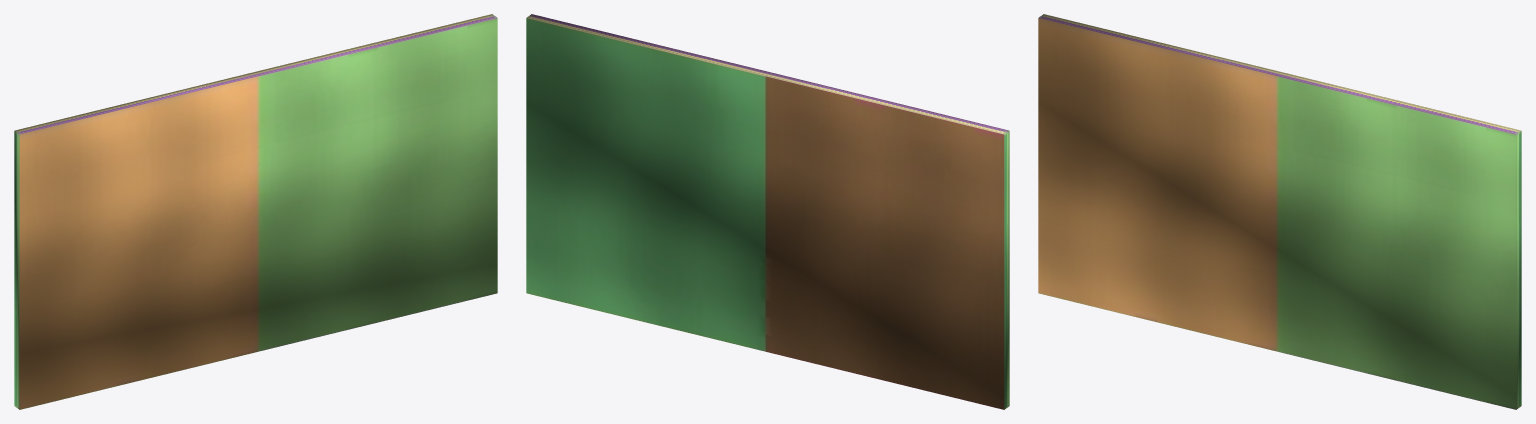
File: fence_wood.glb
The picture shows the model from 3 angles, left to right: view 1: azimuth 30°, elevation 25°; view 2: azimuth 150°, elevation 25°; view 3: azimuth 330°, elevation 25°; orthographic projection.
Parts seen in each view (by area): view 1: col; view 2: col; view 3: col.
Boxes of the visible parts, x1,y1,x2,y2 form: col: [14, 14, 497, 409]; col: [526, 14, 1009, 409]; col: [1038, 14, 1521, 409].
Size of the model in its own units: 2 by 1.1 by 0.0382.
1 material, 1 textured.
